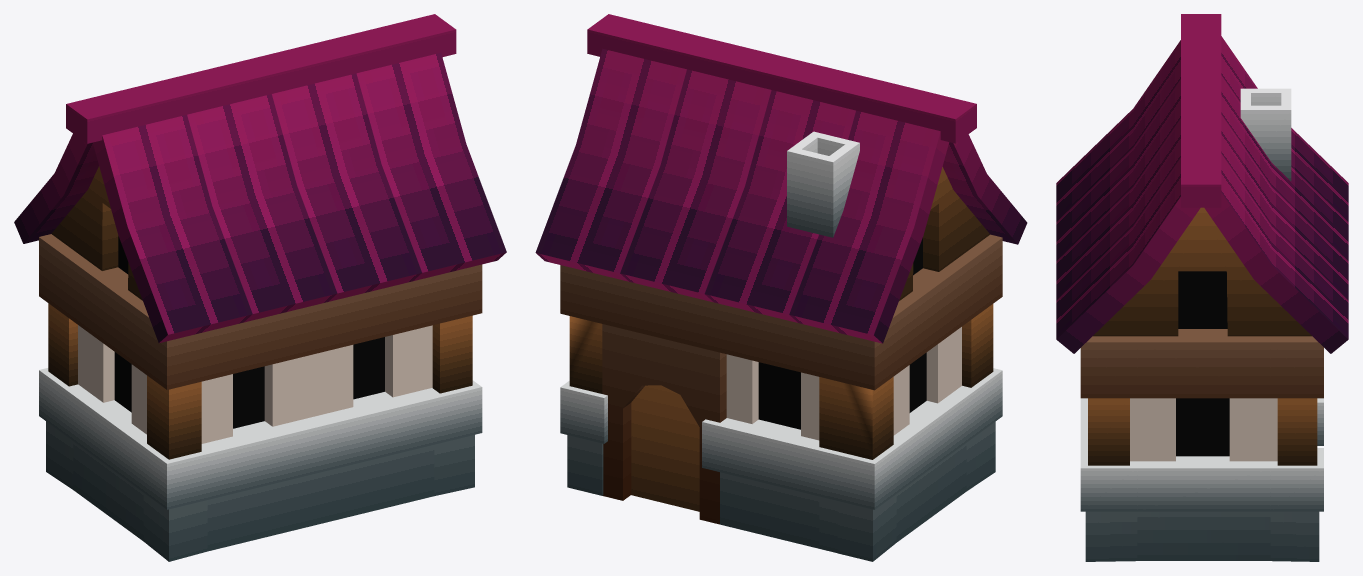
The model's file is house_lvl5.fbx.
The picture shows the model from 3 angles, left to right: view 1: azimuth 30°, elevation 25°; view 2: azimuth 150°, elevation 25°; view 3: azimuth 270°, elevation 25°; orthographic projection. The views are drawn at different scales.
Visible parts, largest first — view 1: house_lvl5.001; view 2: house_lvl5.001; view 3: house_lvl5.001.
Part boxes in pixels (x1,y1,x2,y2): house_lvl5.001: (14,14,506,561); house_lvl5.001: (535,14,1027,561); house_lvl5.001: (1056,14,1348,561).
Bounding box in the file's own units: 0.5023 × 0.5394 × 0.3633.
